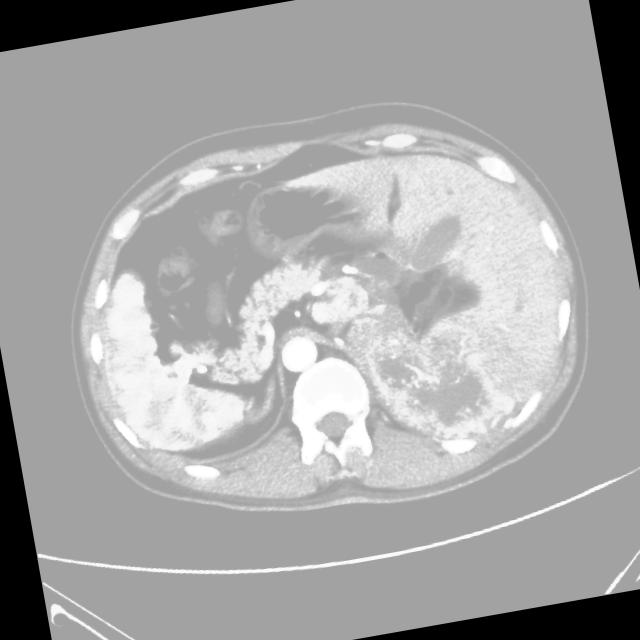TUMOR: (23, 108, 486, 498)
